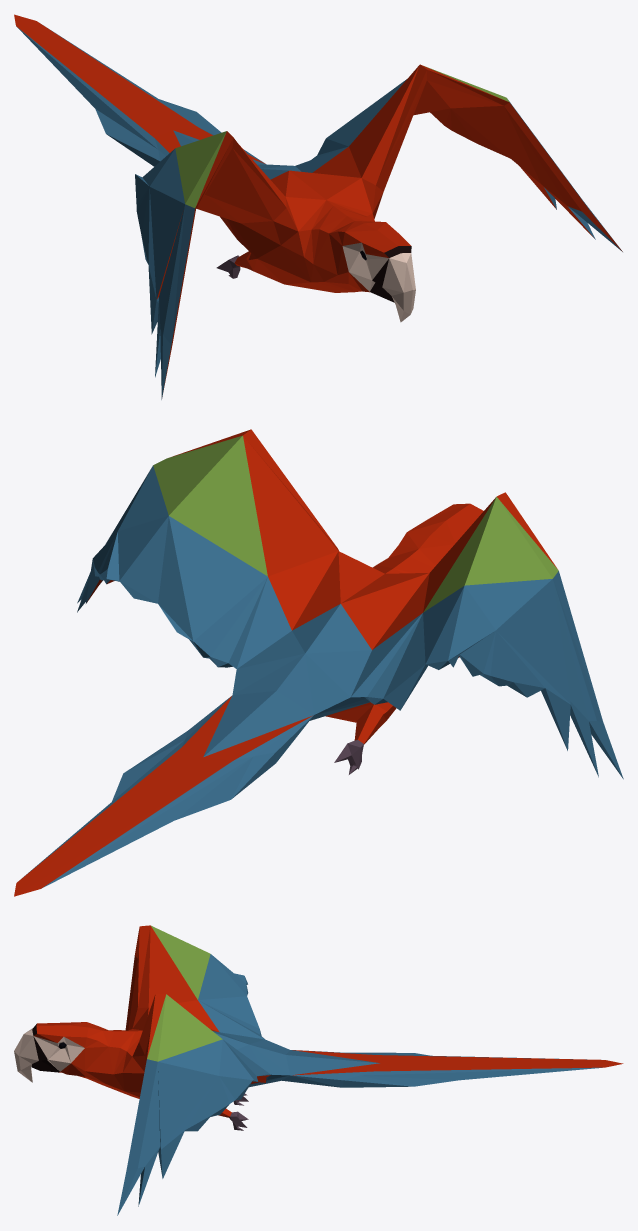
File: Parrot_v2_wing_short.glb
3 views of the same model, one above another, from view 1: azimuth 30°, elevation 25°; view 2: azimuth 150°, elevation 25°; view 3: azimuth 270°, elevation 25° (orthographic). The views are drawn at different scales.
Size of the model in its own units: 67.1 by 33.7 by 100.
